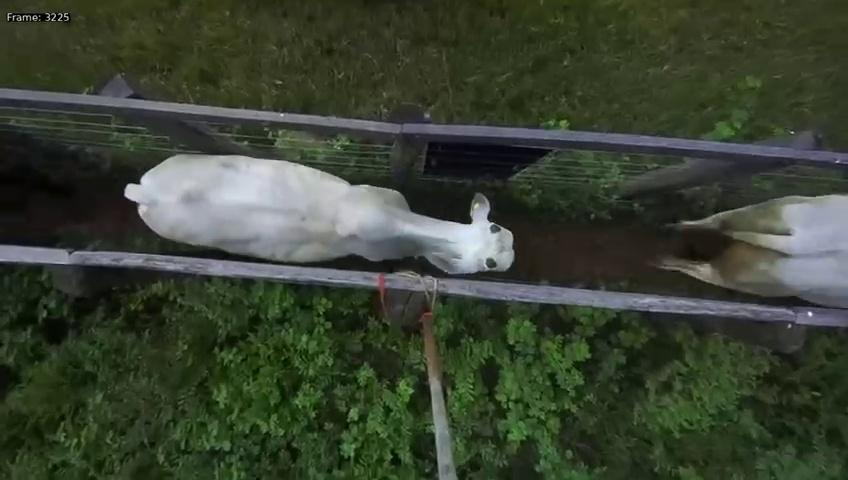cattle: (120, 144, 522, 284)
